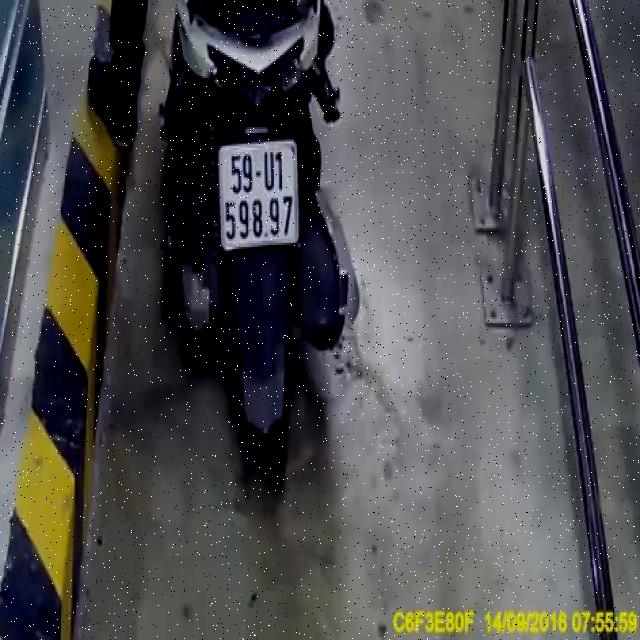1: (274, 148, 288, 195)
5: (220, 196, 238, 240), (228, 151, 244, 196)
7: (280, 192, 295, 238)
8: (251, 196, 263, 240)
9: (237, 193, 251, 243), (242, 152, 256, 195), (268, 196, 281, 238)
U: (261, 146, 277, 195)
